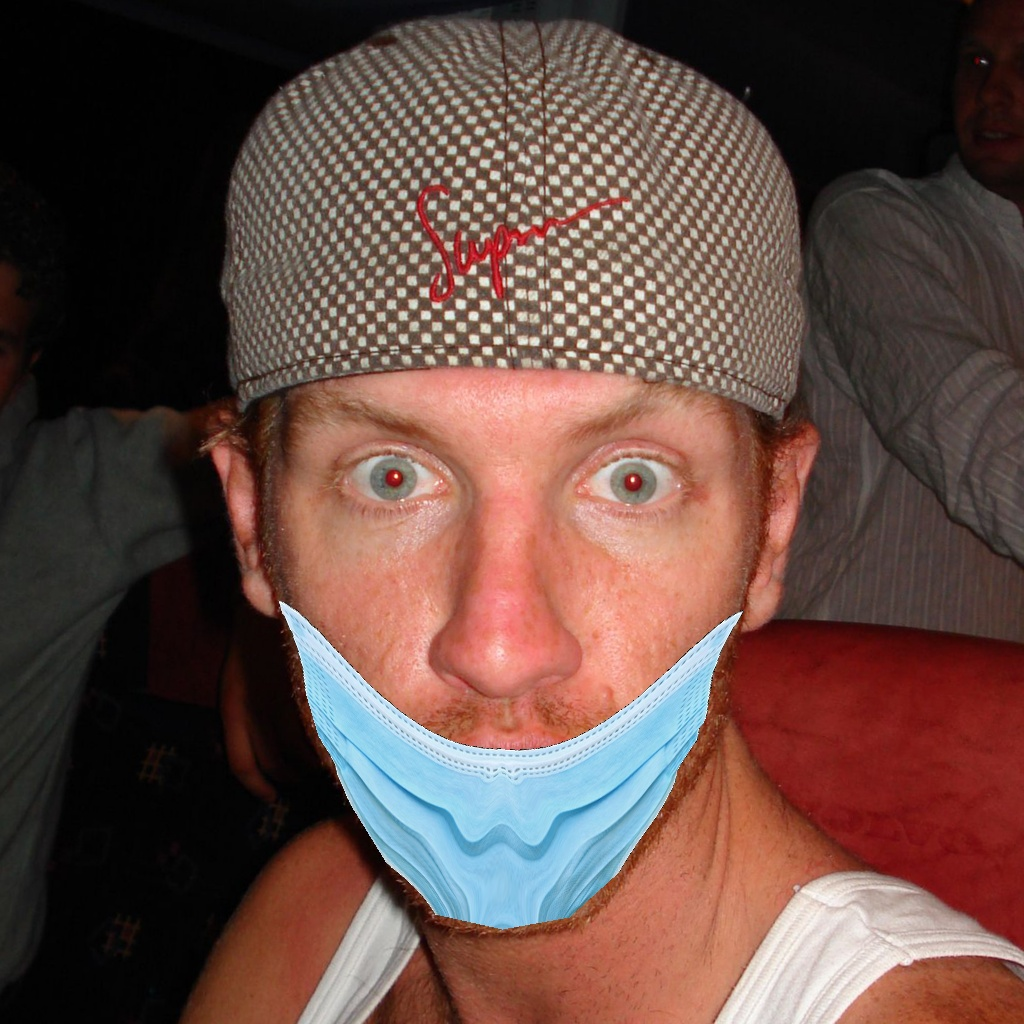mascarilla_mal_puesta: (239, 390, 784, 930)
